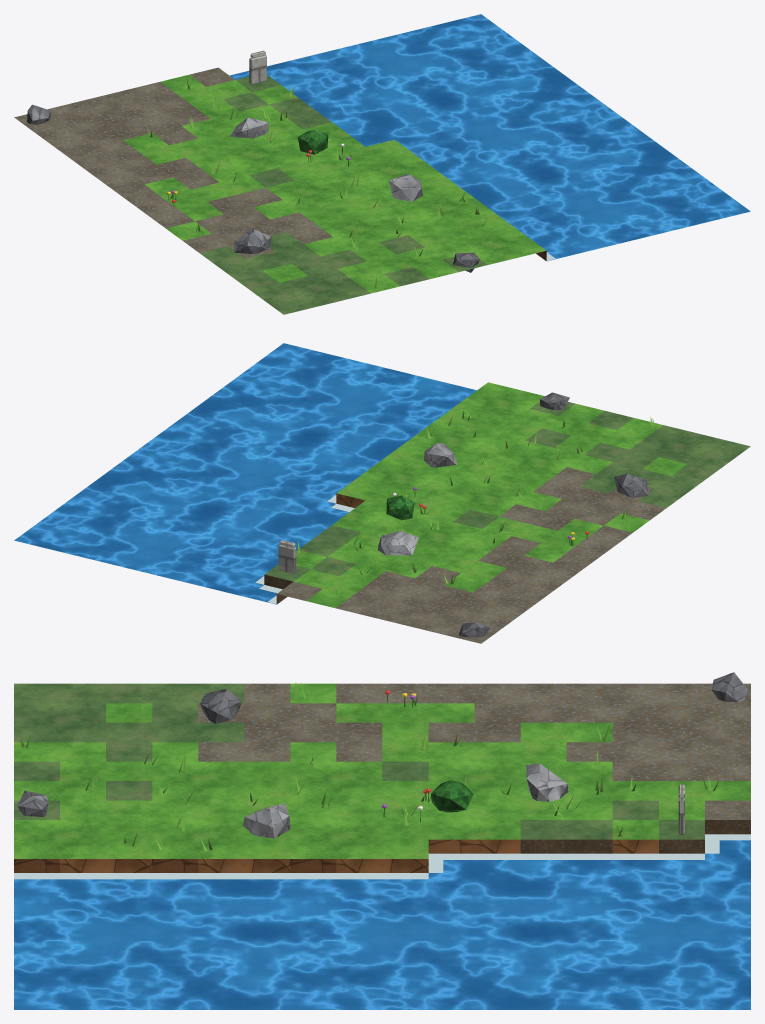
The model's file is chunk_3_21.glb.
The picture shows the model from 3 angles, top to bottom: view 1: azimuth 30°, elevation 25°; view 2: azimuth 150°, elevation 25°; view 3: azimuth 270°, elevation 25°; orthographic projection. The views are drawn at different scales.
Visible parts, largest first — view 1: chunk_3_21; view 2: chunk_3_21; view 3: chunk_3_21.
Boxes of the visible parts, bbox=[...] form: chunk_3_21: bbox=[14, 14, 750, 314]; chunk_3_21: bbox=[14, 343, 750, 643]; chunk_3_21: bbox=[14, 672, 750, 1009].
Size of the model in its own units: 16 by 1.36 by 16.
19 materials, 13 textured.
